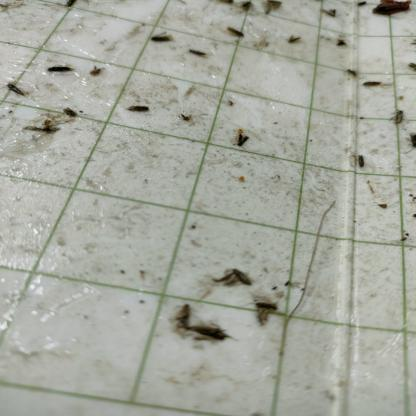prays_oleae: (226, 260, 251, 293), (128, 100, 156, 127), (151, 24, 177, 52), (44, 61, 78, 82), (224, 19, 245, 50), (3, 83, 35, 102), (233, 129, 250, 158), (54, 103, 84, 119), (188, 48, 212, 67), (286, 26, 300, 52), (391, 107, 404, 131)
